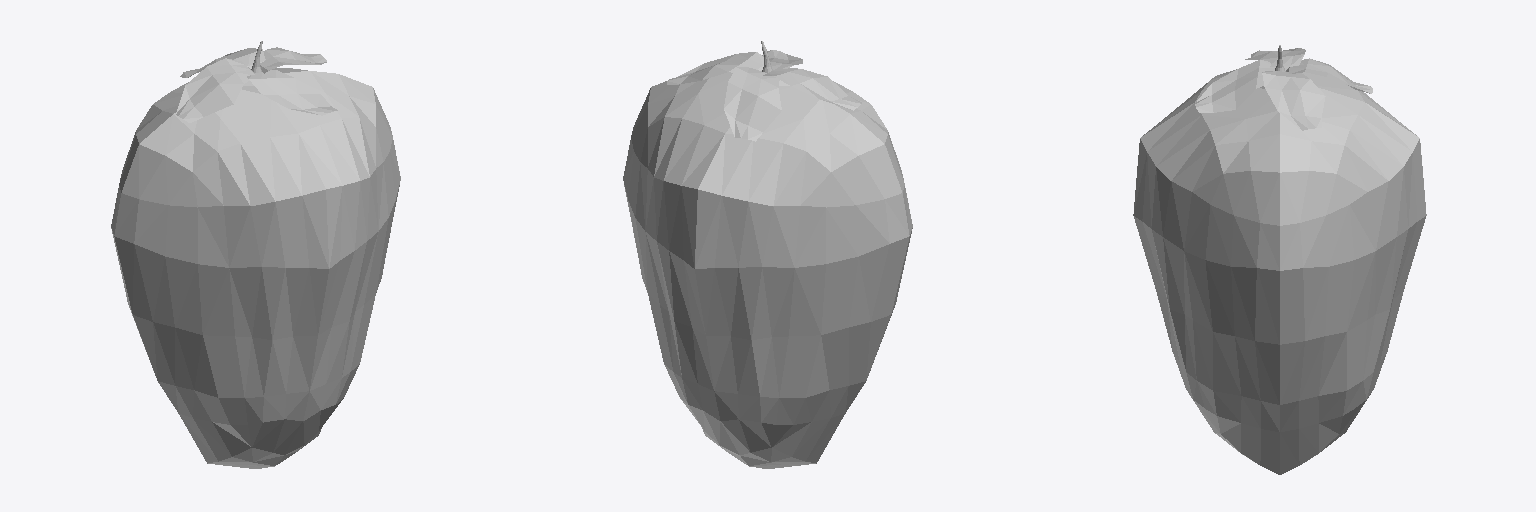
The model's file is Strawberry.obj.
3 views of the same model, side by side, from view 1: azimuth 30°, elevation 25°; view 2: azimuth 150°, elevation 25°; view 3: azimuth 270°, elevation 25° (orthographic).
Parts seen in each view (by area): view 1: Strawberry, Leaf.002, Leaf.003, Leaf.004, Leaf; view 2: Strawberry, Leaf, Leaf.002, Leaf.004; view 3: Strawberry, Leaf.004, Leaf.003, Leaf, Leaf.002.
Boxes of the visible parts, x1=… form: Strawberry: x1=111, y1=68, x2=400, y2=468; Leaf.002: x1=176, y1=58, x2=254, y2=122; Leaf.003: x1=247, y1=70, x2=337, y2=115; Leaf.004: x1=260, y1=47, x2=326, y2=73; Leaf: x1=180, y1=48, x2=265, y2=77; Strawberry: x1=623, y1=71, x2=912, y2=468; Leaf: x1=724, y1=67, x2=781, y2=141; Leaf.002: x1=763, y1=68, x2=861, y2=110; Leaf.004: x1=667, y1=52, x2=763, y2=84; Strawberry: x1=1133, y1=69, x2=1426, y2=474; Leaf.004: x1=1262, y1=71, x2=1325, y2=130; Leaf.003: x1=1195, y1=59, x2=1274, y2=112; Leaf: x1=1286, y1=58, x2=1372, y2=93; Leaf.002: x1=1245, y1=48, x2=1305, y2=70.
Size of the model in its own units: 2.58 by 3.71 by 2.31.